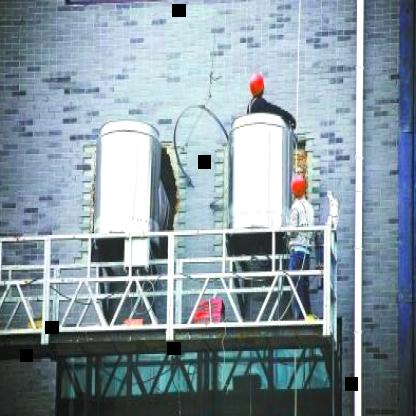helmet: (246, 72, 268, 102), (288, 173, 308, 203)
